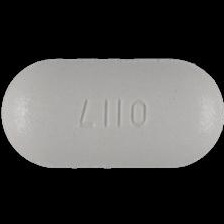43063-188: (0, 0, 224, 224)
